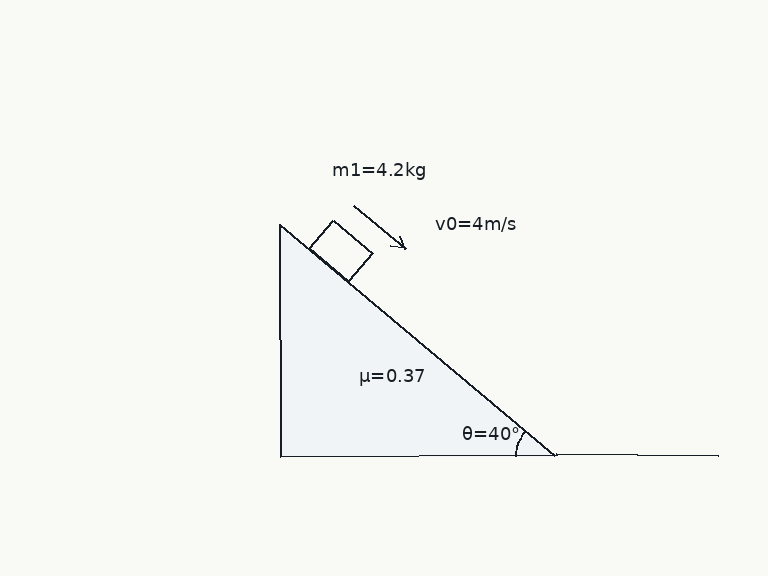block: (307, 218, 374, 283)
ramp: (278, 223, 558, 458)
